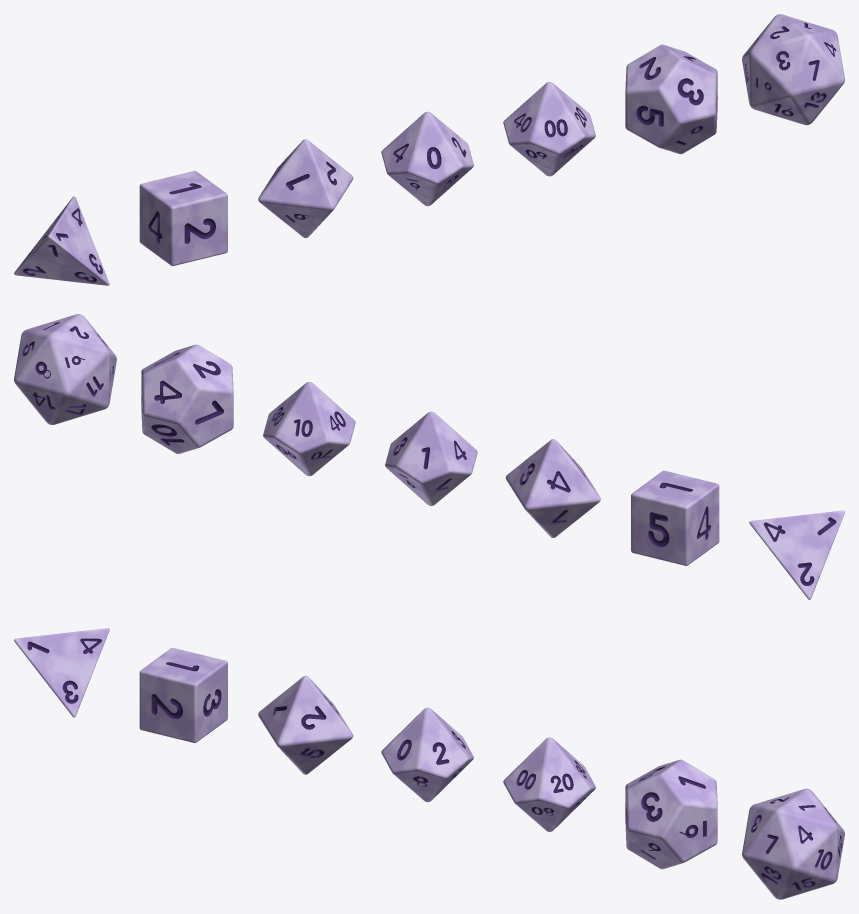
Rendered from lavender.glb.
The picture shows the model from 3 angles, top to bottom: view 1: azimuth 30°, elevation 25°; view 2: azimuth 150°, elevation 25°; view 3: azimuth 330°, elevation 25°; orthographic projection.
Parts seen in each view (by area): view 1: d20, d12, d6, d100, d10, d8, d4; view 2: d20, d12, d6, d100, d10, d8, d4; view 3: d20, d12, d6, d8, d10, d100, d4.
Boxes of the visible parts, x1,y1,x2,y2 form: d20: (742, 14, 844, 125); d12: (625, 44, 717, 154); d6: (139, 171, 227, 266); d100: (503, 82, 595, 176); d10: (381, 111, 473, 206); d8: (258, 139, 353, 238); d4: (14, 196, 109, 285); d20: (14, 314, 116, 424); d12: (141, 344, 233, 453); d6: (631, 470, 719, 565); d100: (263, 382, 355, 476); d10: (385, 411, 477, 505); d8: (505, 439, 600, 537); d4: (749, 510, 844, 599); d20: (742, 788, 844, 899); d12: (625, 759, 717, 869); d6: (139, 647, 227, 742); d8: (258, 675, 353, 774); d10: (381, 707, 473, 802); d100: (503, 737, 595, 831); d4: (14, 628, 109, 717).
Size of the model in its own units: 21.14 by 2.47 by 2.47.
14 materials, 7 textured.
